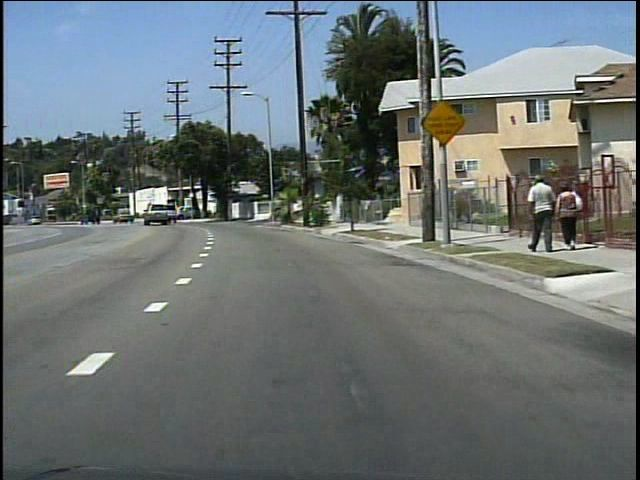person: (520, 172, 552, 254), (551, 180, 580, 250)
